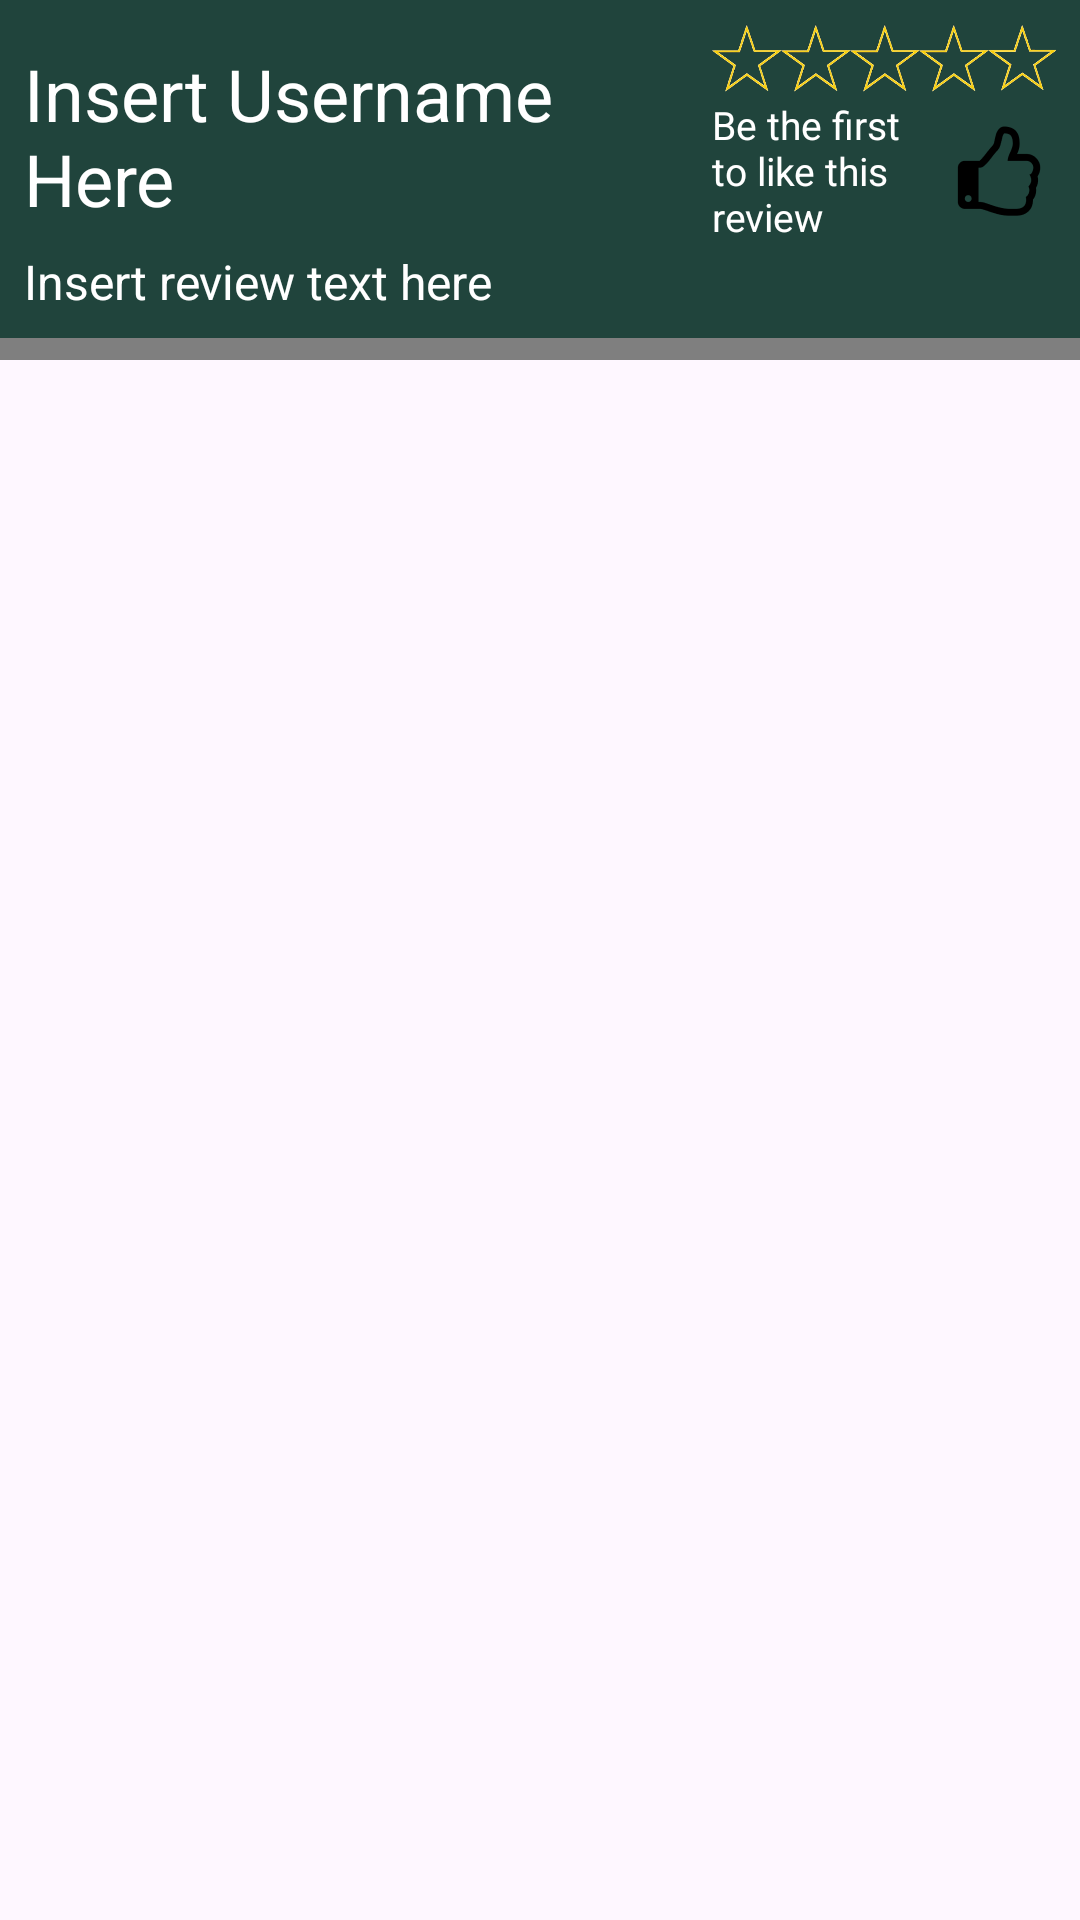

Locate icon controls on the screen. Image size 1080px x 1920px, boxes as (x1, y1, x2, y2).
no star: (712, 25, 781, 92), (781, 25, 850, 92), (850, 25, 919, 92), (919, 25, 988, 92), (988, 25, 1056, 91)
